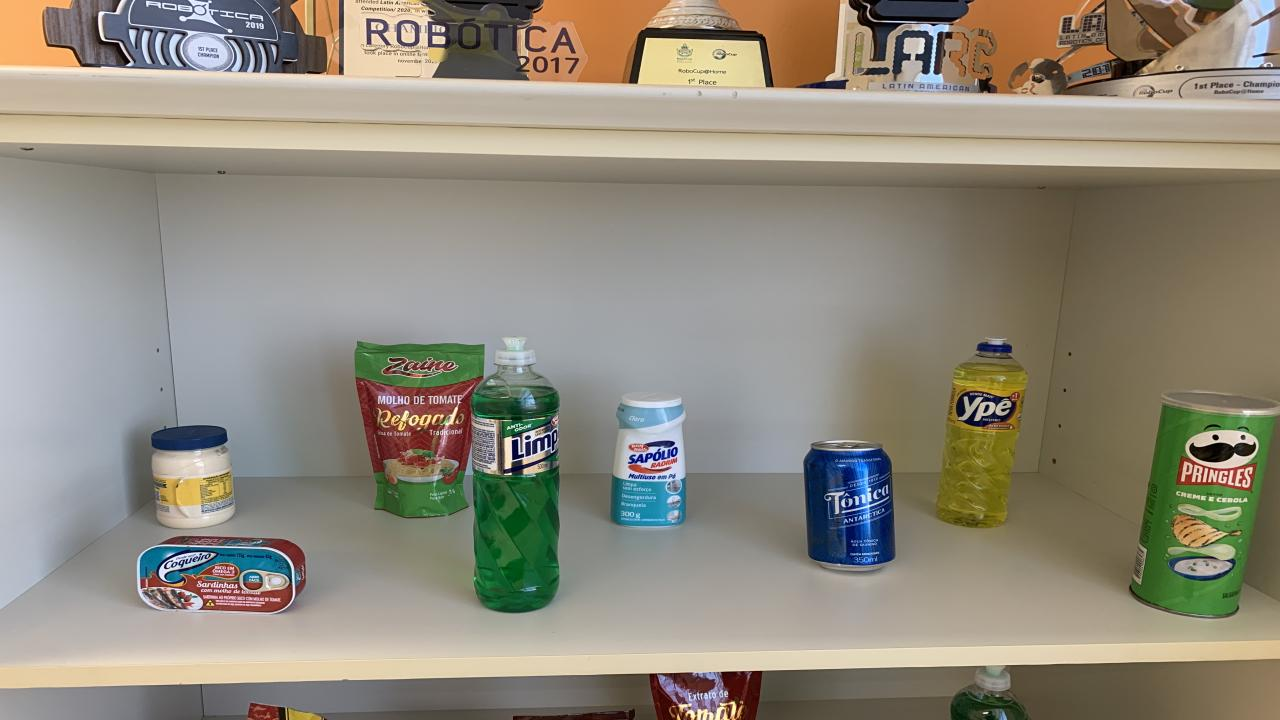Cleaner-Cleanup_Items: (610, 394, 685, 529)
Detergent-Cleanup_Items: (470, 338, 560, 613), (935, 338, 1028, 527), (950, 666, 1030, 720)
Mayonnaise-Pantry_Items: (152, 428, 235, 529)
Pringles-Snacks: (1130, 392, 1280, 617)
Tomato_Sauce-Pantry_Items: (355, 343, 482, 518), (650, 671, 762, 720), (248, 703, 325, 720)
Tonic-Drinks: (805, 441, 895, 570)
Tuna_Can-Pantry_Items: (138, 536, 308, 613)
